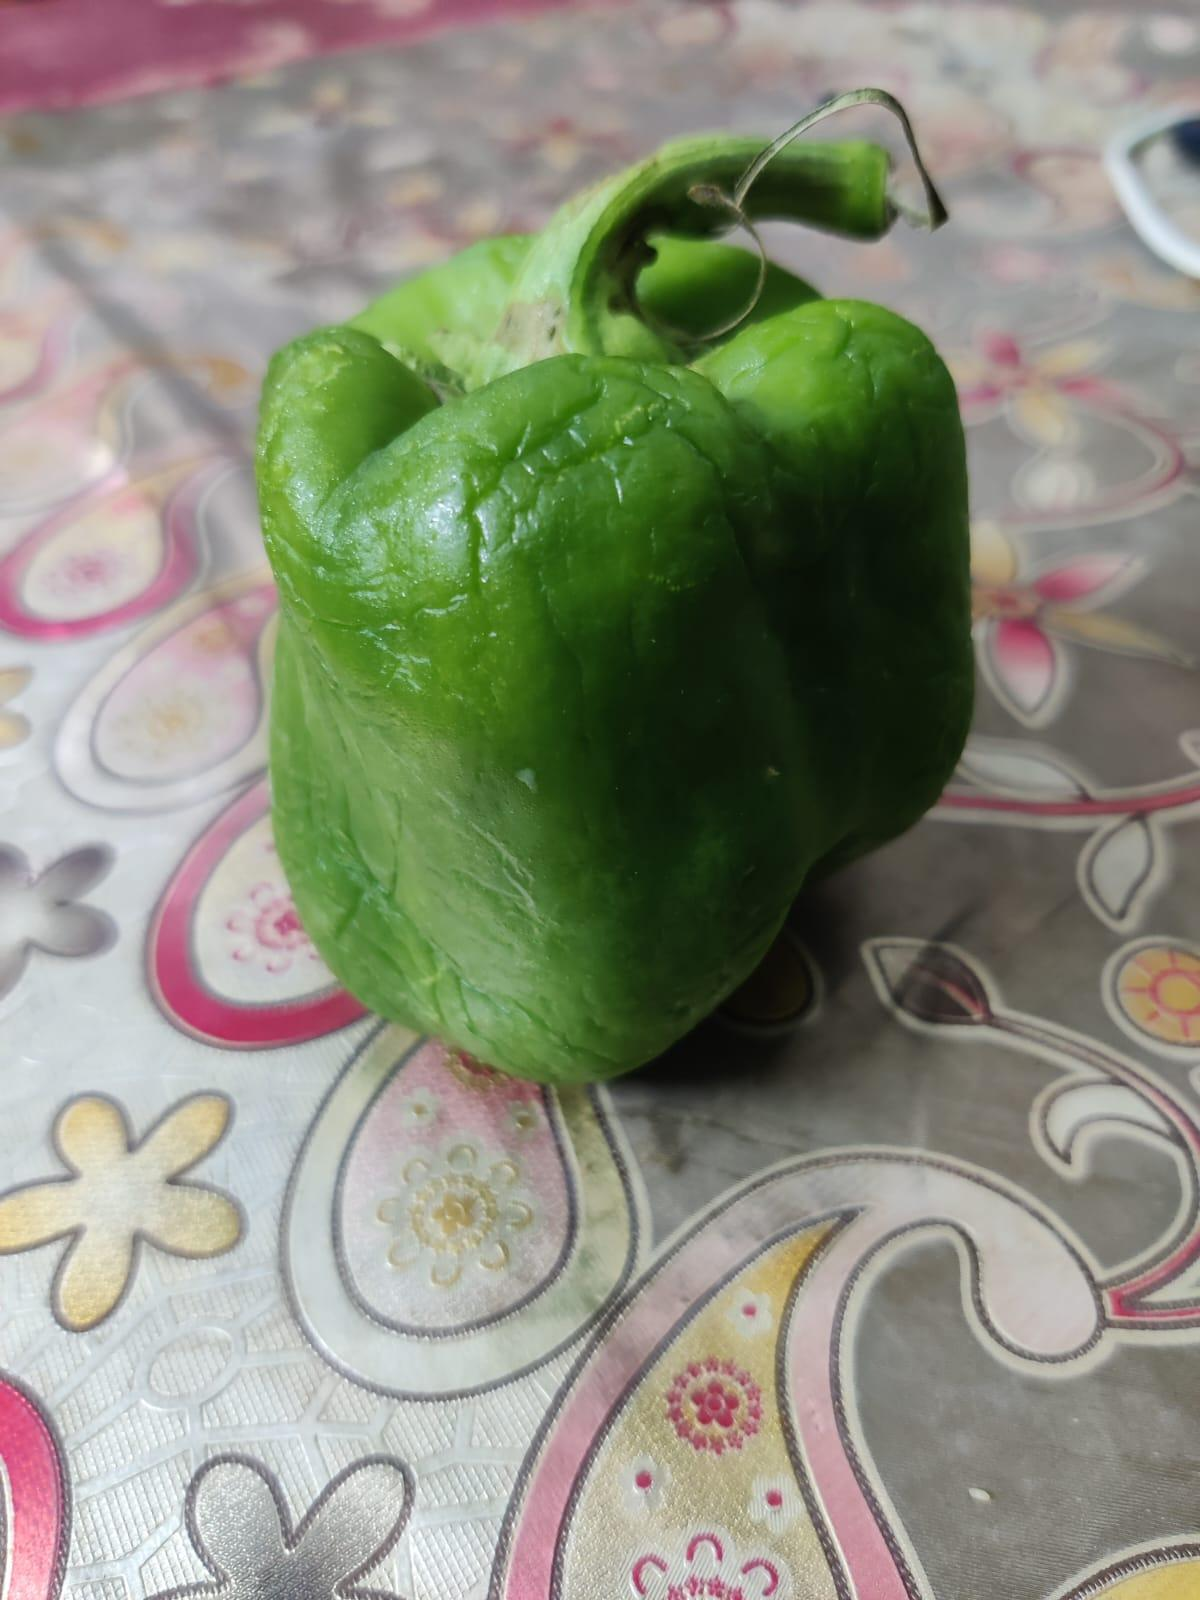non-mango: (255, 112, 967, 1077)
